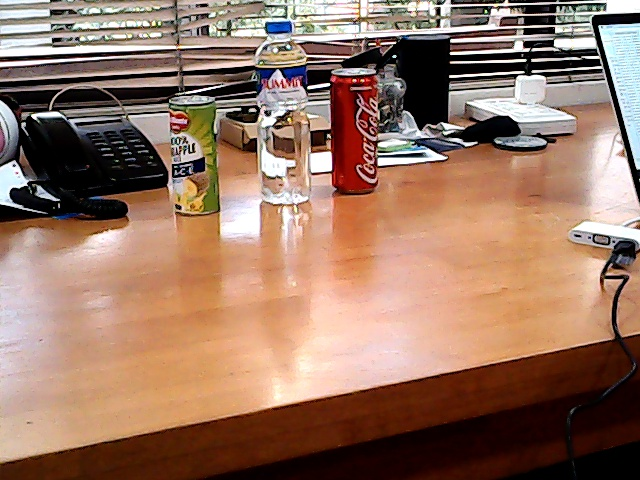Cola: (325, 63, 392, 201)
Pine Juice: (163, 87, 224, 229)
Summit Water: (252, 14, 318, 213)
